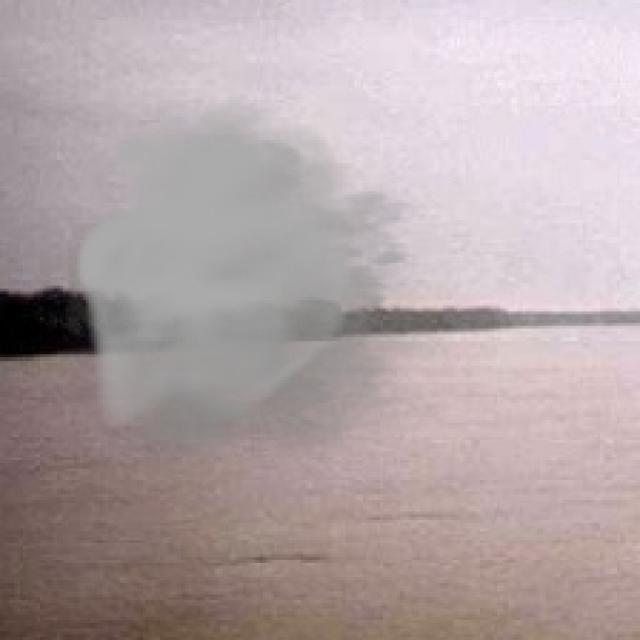smoke: (69, 94, 454, 477)
